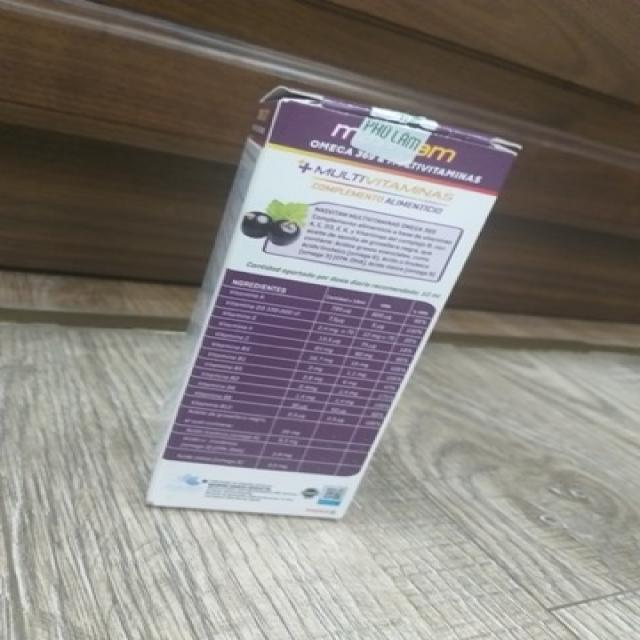PaperCardboard: (145, 82, 522, 525)
